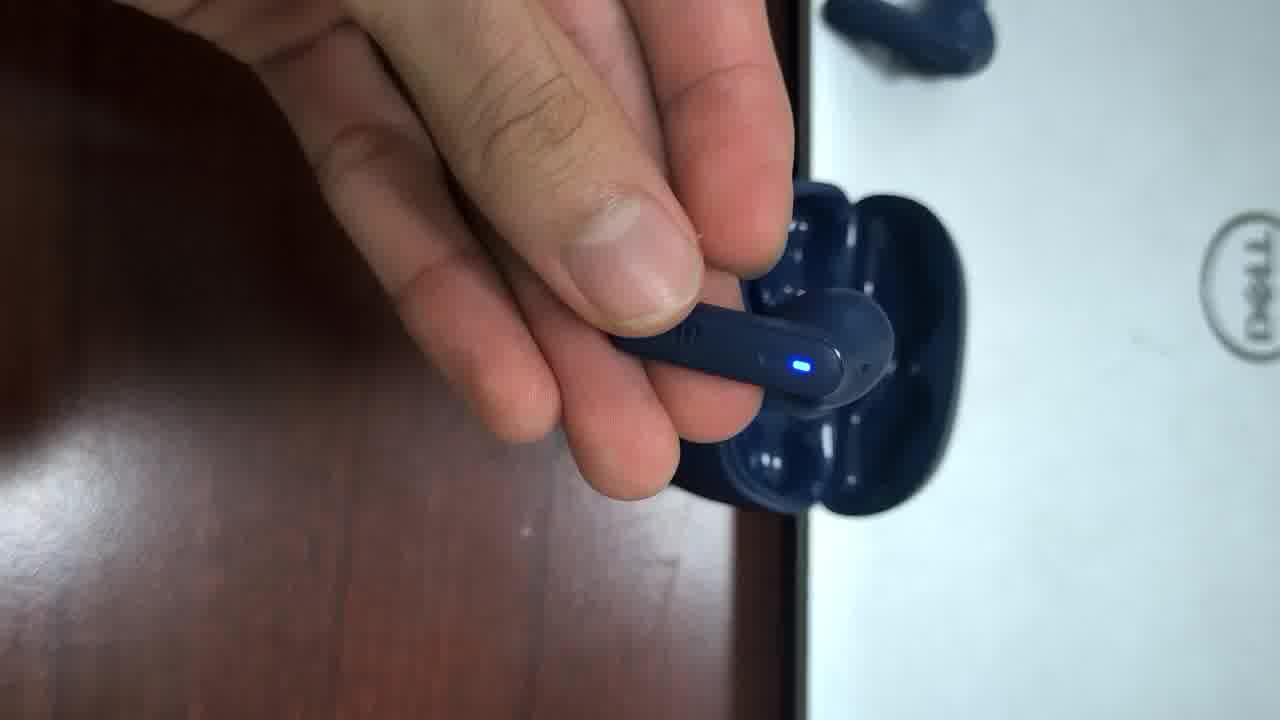Case: (673, 180, 964, 515)
Earbud: (610, 289, 894, 416), (823, 0, 994, 74)
